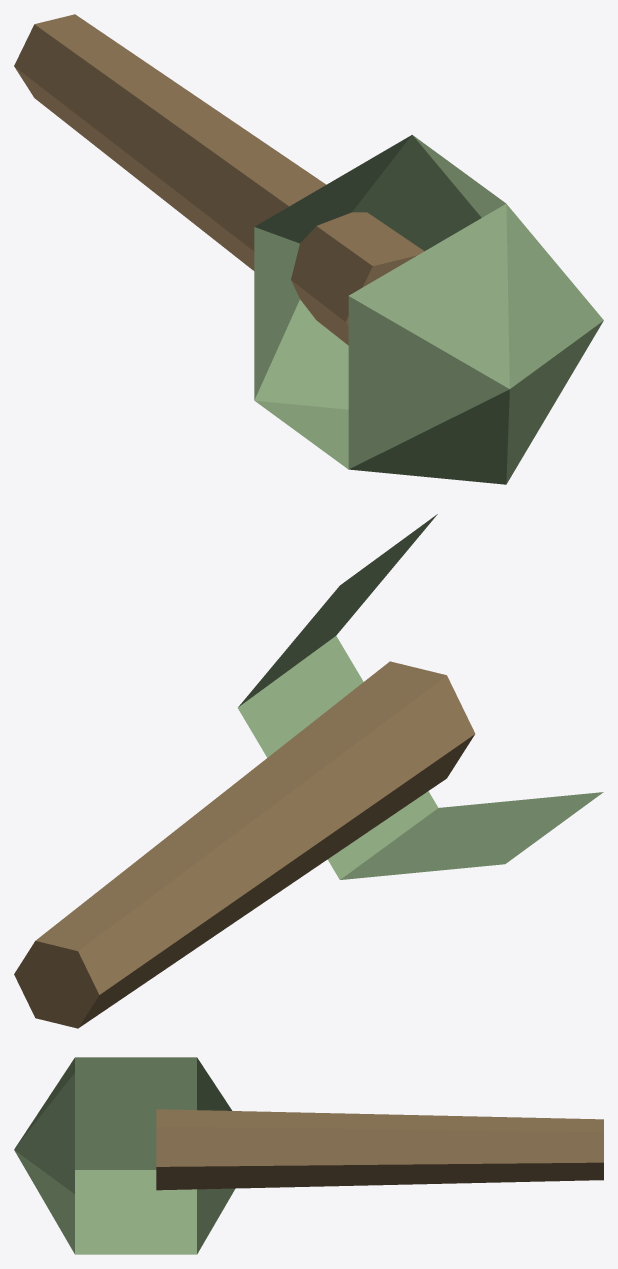
The model's file is willow_tree_low.glb.
3 views of the same model, one above another, from view 1: azimuth 30°, elevation 25°; view 2: azimuth 150°, elevation 25°; view 3: azimuth 270°, elevation 25° (orthographic). The views are drawn at different scales.
Visible parts, largest first — view 1: geometry_0; view 2: geometry_0; view 3: geometry_0.
Part boxes in pixels (x1,y1,x2,y2): geometry_0: (14,14,603,484); geometry_0: (14,514,603,1028); geometry_0: (14,1057,603,1254).
Size of the model in its own units: 0.94 by 0.9884 by 2.9.
